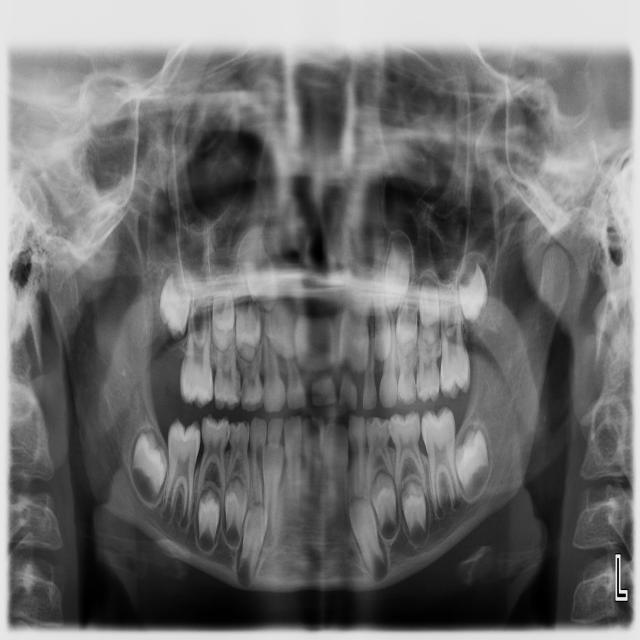mandibula: (45, 247, 570, 590)
